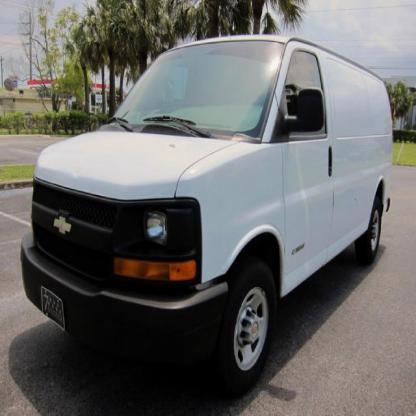Vehicle: (18, 33, 397, 397)
